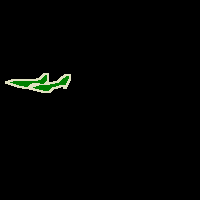shoe: (30, 74, 70, 92), (6, 74, 48, 88)
